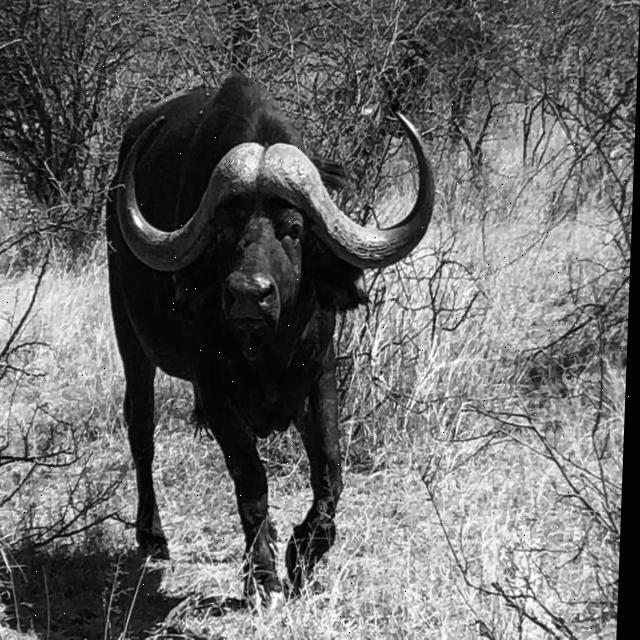Buffalo: (91, 79, 439, 612)
